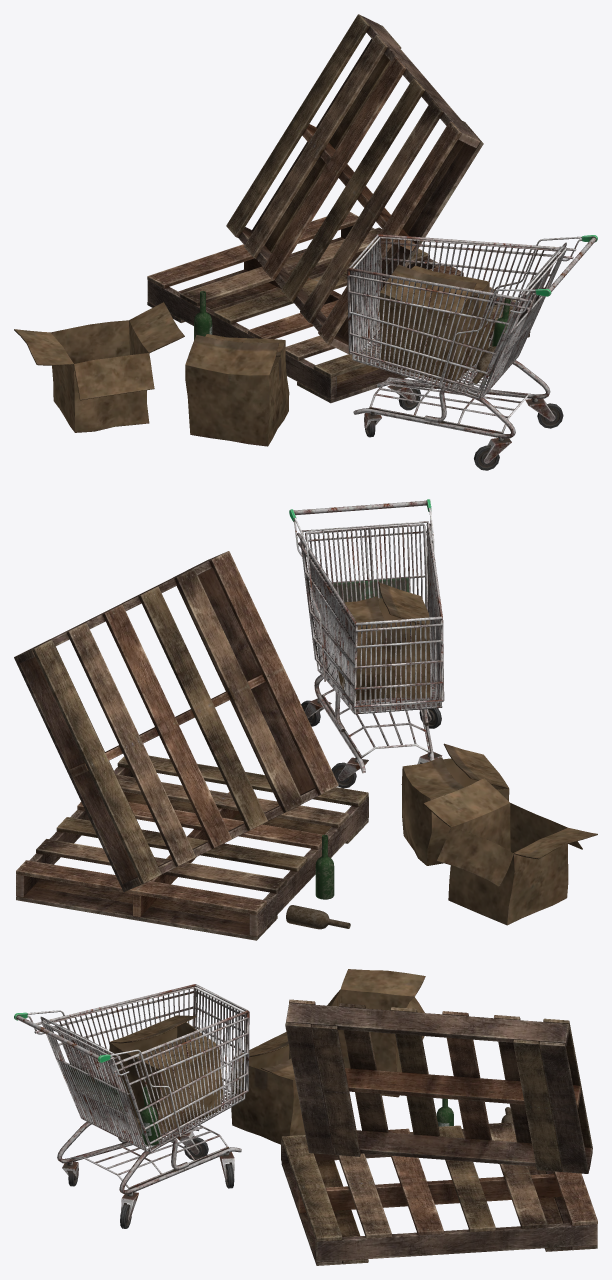
Rendered from trash6.glb.
3 renders of one model, top to bottom at view 1: azimuth 30°, elevation 25°; view 2: azimuth 150°, elevation 25°; view 3: azimuth 270°, elevation 25°, orthographic. The views are drawn at different scales.
Parts seen in each view (by area): view 1: boxes_1, cart, bottles_2; view 2: boxes_1, cart, bottles_2; view 3: boxes_1, cart, bottles_2.
Boxes of the visible parts, x1,y1,x2,y2 form: boxes_1: (14,14,530,446); cart: (347,234,597,470); bottles_2: (169,291,510,383); boxes_1: (14,551,597,940); cart: (289,499,444,788); bottles_2: (286,834,350,929); boxes_1: (109,969,597,1265); cart: (14,984,249,1228); bottles_2: (134,1086,513,1145).
Size of the model in its own units: 2.33 by 1.12 by 2.58.
Materials: 3 (3 with a texture image).
